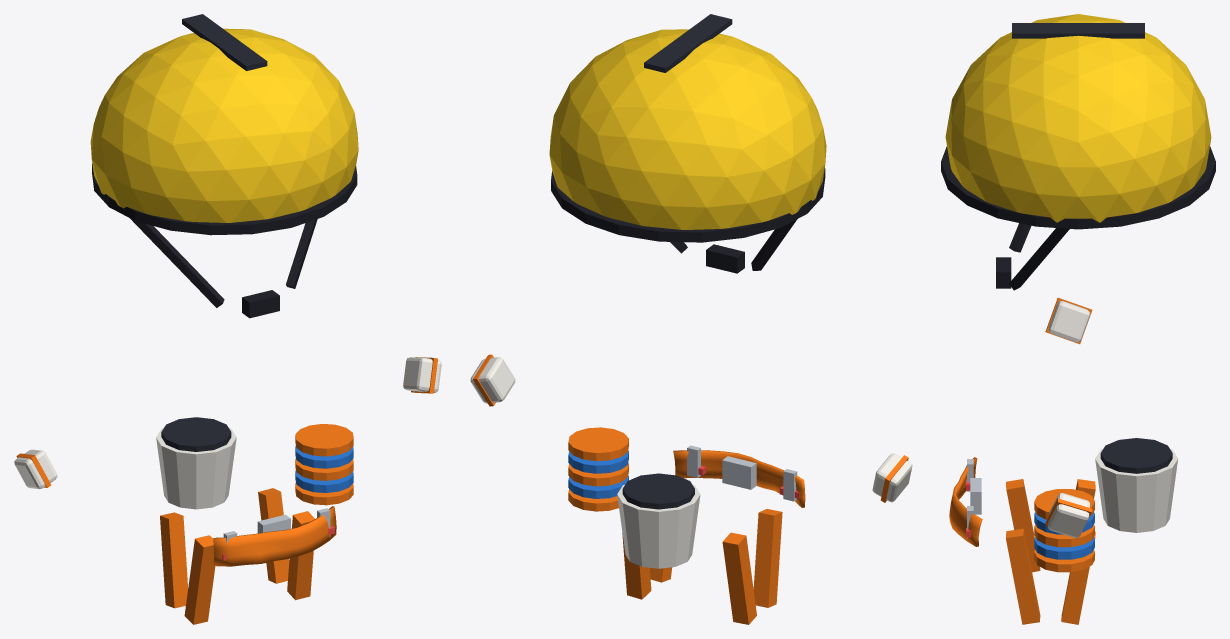
The model's file is Outfit_RockClimbing.fbx.
The picture shows the model from 3 angles, left to right: view 1: azimuth 30°, elevation 25°; view 2: azimuth 150°, elevation 25°; view 3: azimuth 270°, elevation 25°; orthographic projection. The views are drawn at different scales.
Parts seen in each view (by area): view 1: Helmet__Head.004, HarnessLoops__spine, ChalkBag__spine, Rope__spine, Harness__spine, WristL__forearm.L.001, WristR__forearm.R.001; view 2: Helmet__Head.004, HarnessLoops__spine, ChalkBag__spine, Rope__spine, Harness__spine, WristL__forearm.L.001, WristR__forearm.R.001, Carabiners__spine; view 3: Helmet__Head.004, ChalkBag__spine, HarnessLoops__spine, Rope__spine, WristL__forearm.L.001, WristR__forearm.R.001, Harness__spine.
Part boxes in pixels (<box>): Helmet__Head.004: <box>90,14,358,318</box>; HarnessLoops__spine: <box>160,488,314,624</box>; ChalkBag__spine: <box>156,417,236,509</box>; Rope__spine: <box>295,424,353,505</box>; Harness__spine: <box>213,506,336,566</box>; WristL__forearm.L.001: <box>403,357,441,393</box>; WristR__forearm.R.001: <box>14,449,57,489</box>; Helmet__Head.004: <box>549,14,826,273</box>; HarnessLoops__spine: <box>622,456,782,624</box>; ChalkBag__spine: <box>617,473,700,568</box>; Rope__spine: <box>568,427,628,511</box>; Harness__spine: <box>673,450,805,507</box>; WristL__forearm.L.001: <box>470,354,515,406</box>; WristR__forearm.R.001: <box>872,453,912,502</box>; Carabiners__spine: <box>686,445,799,501</box>; Helmet__Head.004: <box>941,14,1215,290</box>; ChalkBag__spine: <box>1095,438,1177,532</box>; HarnessLoops__spine: <box>970,478,1095,624</box>; Rope__spine: <box>1034,489,1094,572</box>; WristL__forearm.L.001: <box>1045,493,1092,537</box>; WristR__forearm.R.001: <box>1045,297,1092,344</box>; Harness__spine: <box>949,457,982,546</box>.
Bounding box in the file's own units: 0.8928 × 1.13 × 0.496.
